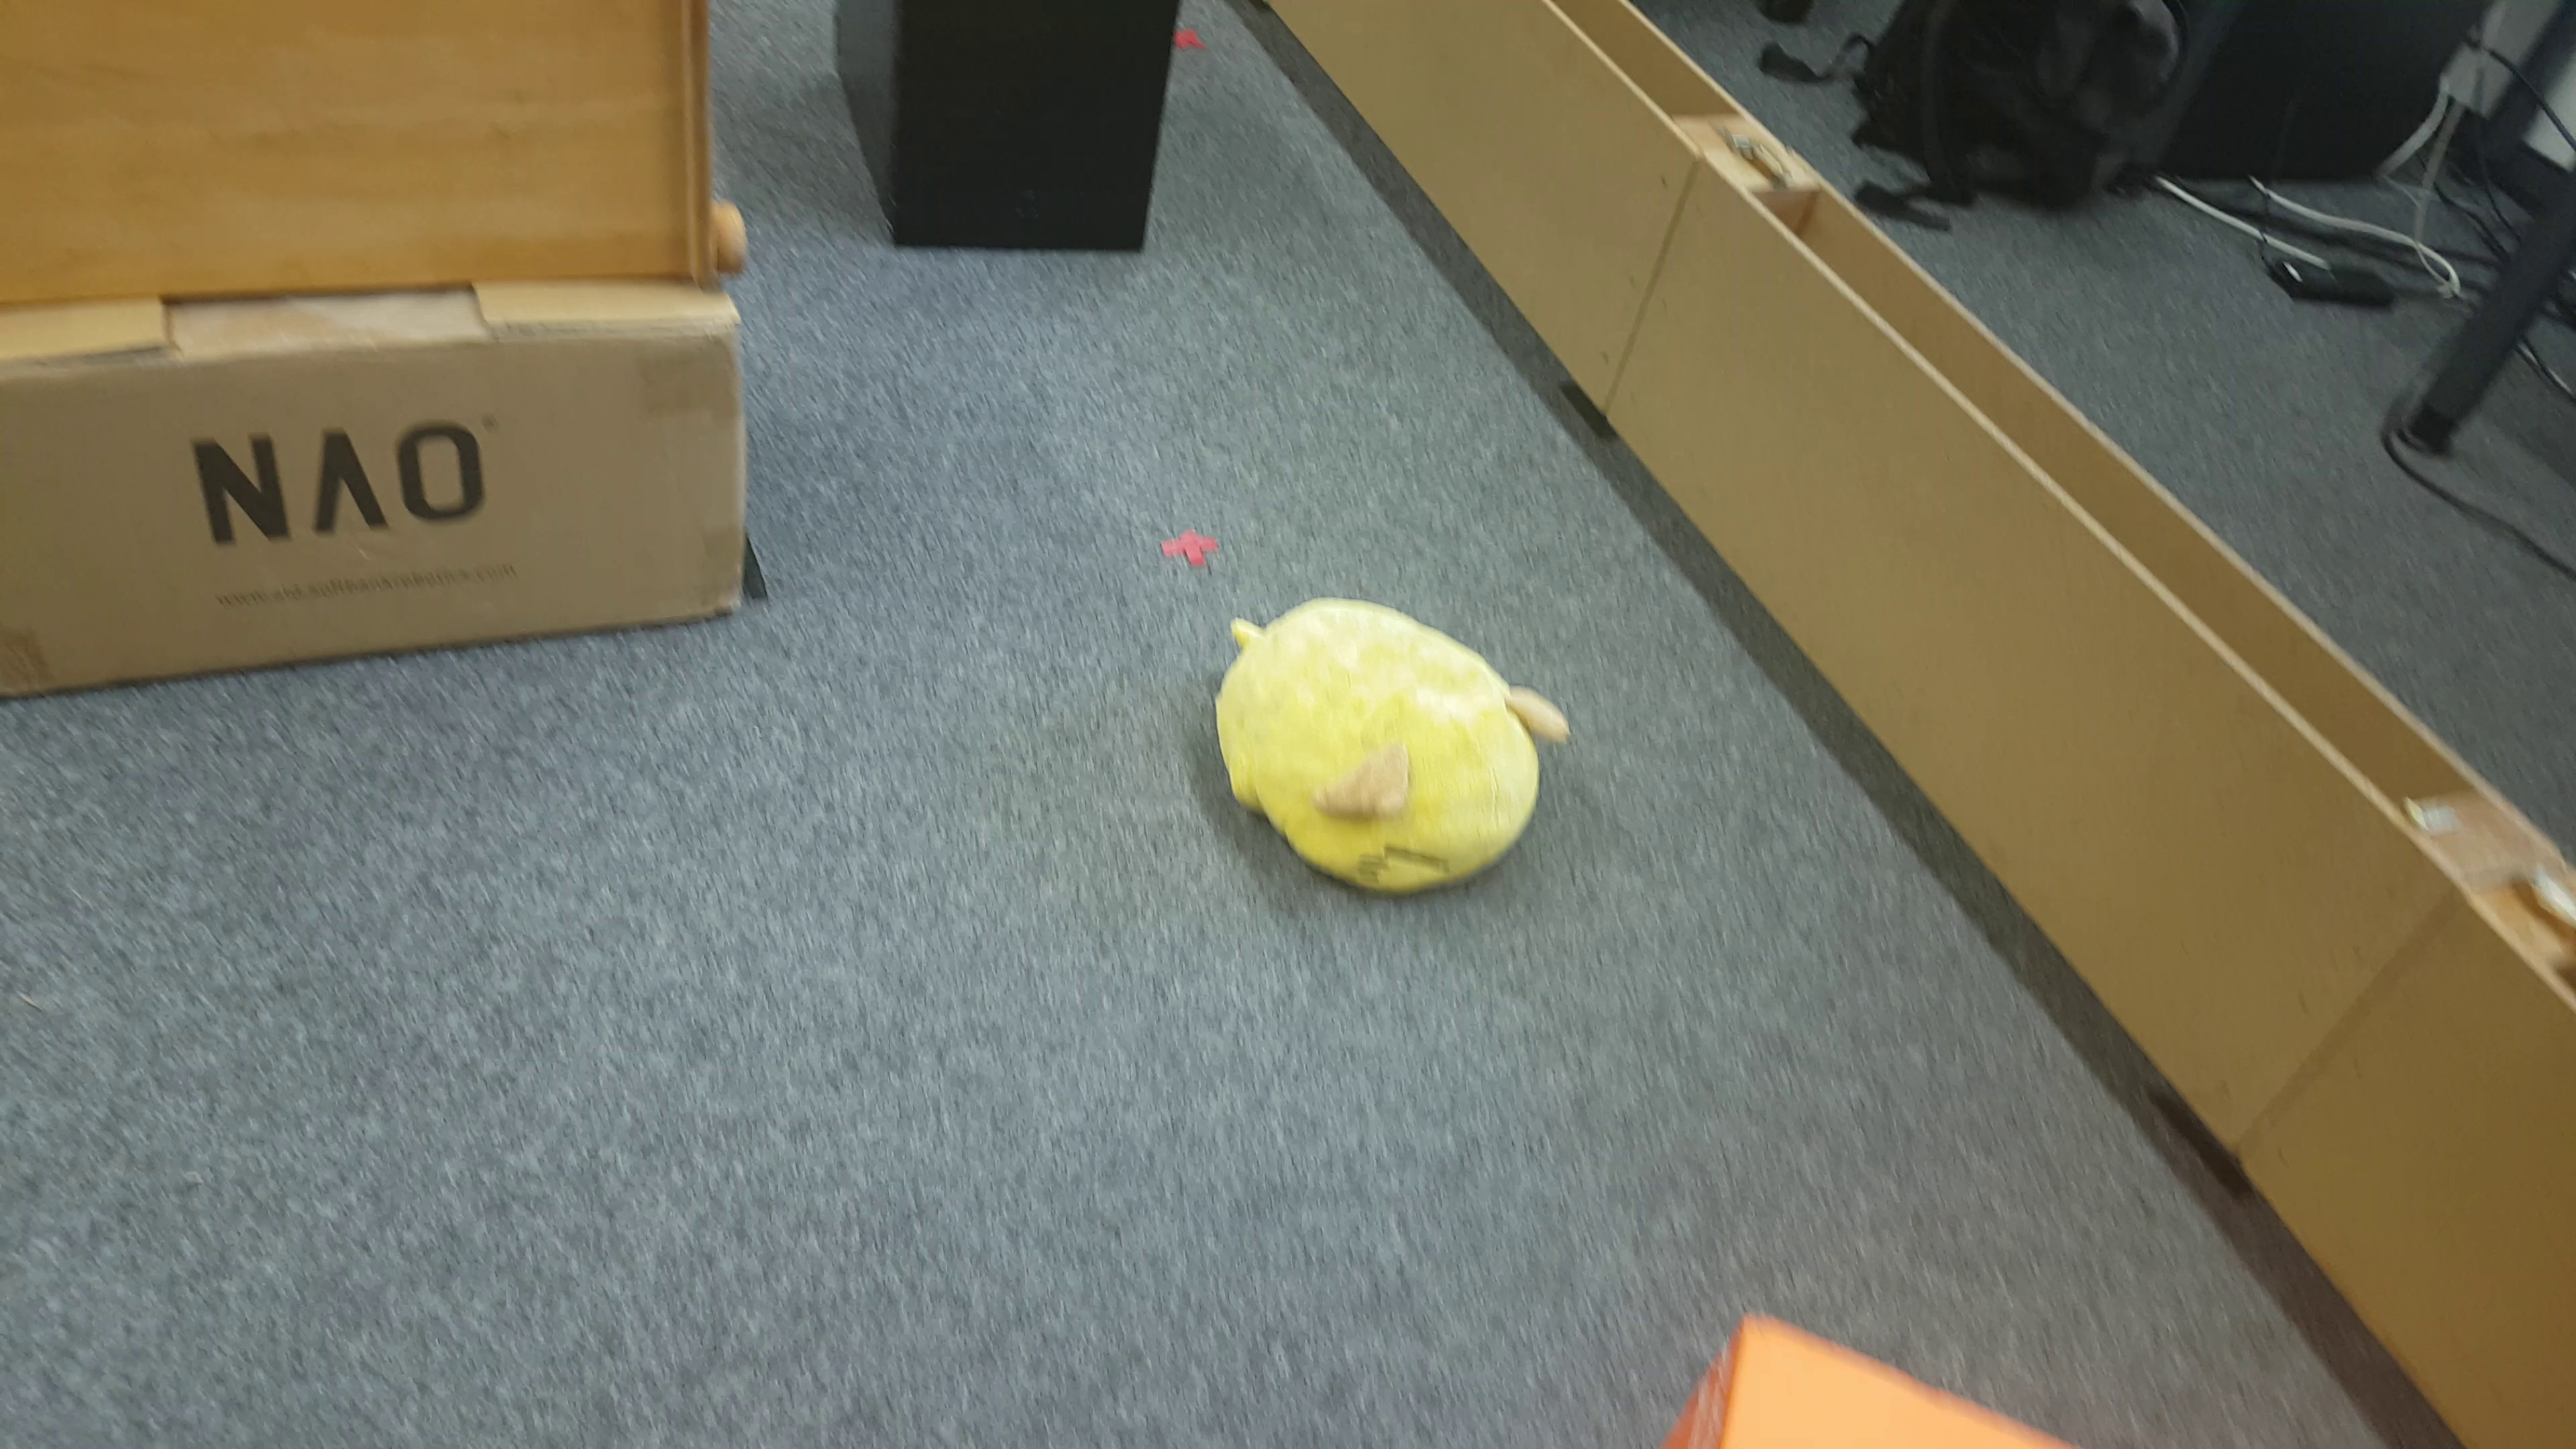grasp: (1215, 593, 1566, 902)
push: (833, 4, 1194, 260), (1638, 1311, 2052, 1449)
